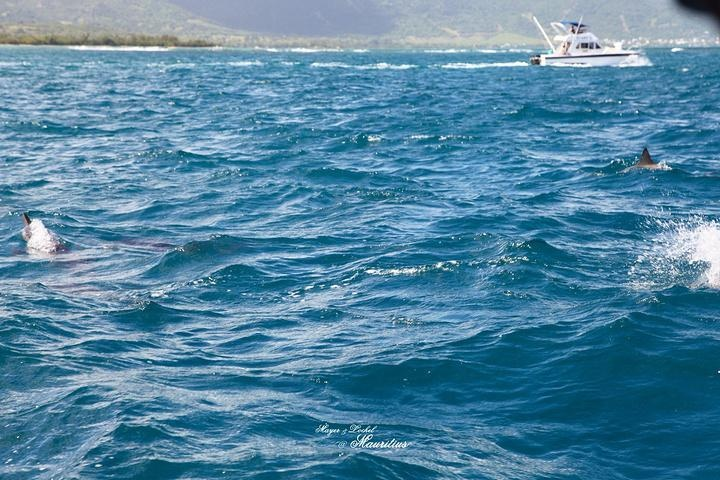yacht: (529, 11, 652, 68)
